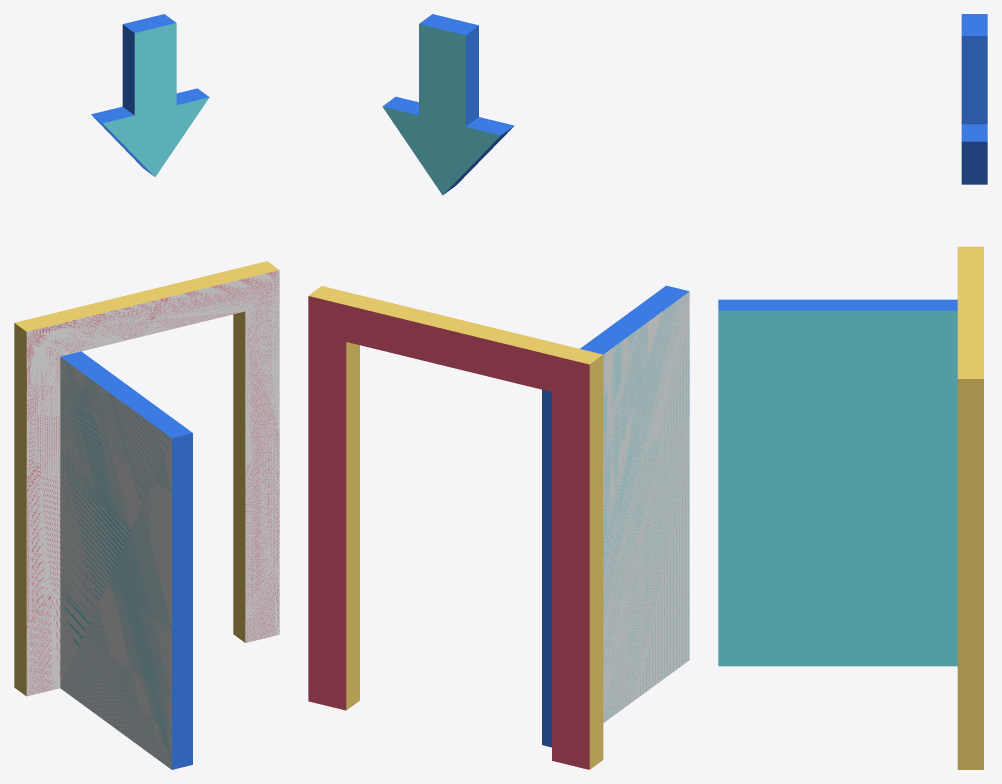
The model's file is Door.dae.
The picture shows the model from 3 angles, left to right: view 1: azimuth 30°, elevation 25°; view 2: azimuth 150°, elevation 25°; view 3: azimuth 270°, elevation 25°; orthographic projection. The views are drawn at different scales.
Visible parts, largest first — view 1: SketchUp (×6); view 2: SketchUp (×6); view 3: SketchUp (×4).
Part boxes in pixels (x1,y1,x2,y2): SketchUp (×6): (14,14,279,769); SketchUp (×6): (308,14,689,769); SketchUp (×4): (718,14,987,769).
Size of the model in its own units: 102 by 87.77 by 245.
